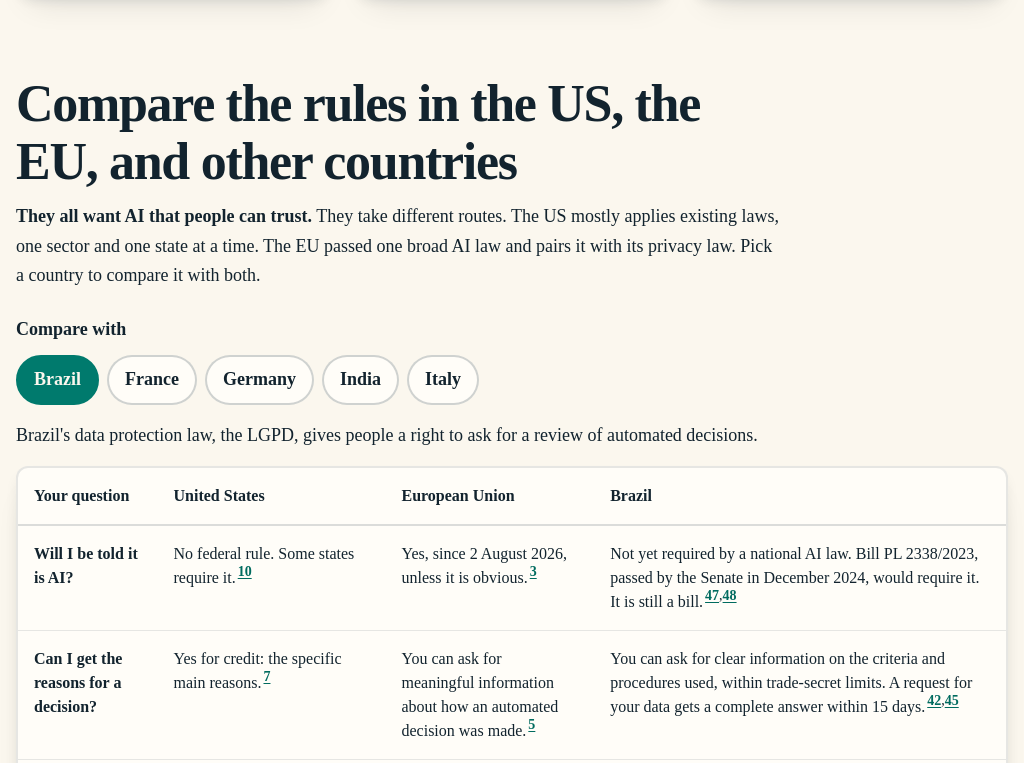
Guide page › cites every Germany cell, and dates the credit-score rights that start later
The width and height of the screenshot is (1024, 763).
(page scrolled)
Click the radio button labelled "Germany".
click(260, 380)  # box [205,355,314,405]
(page scrolled)
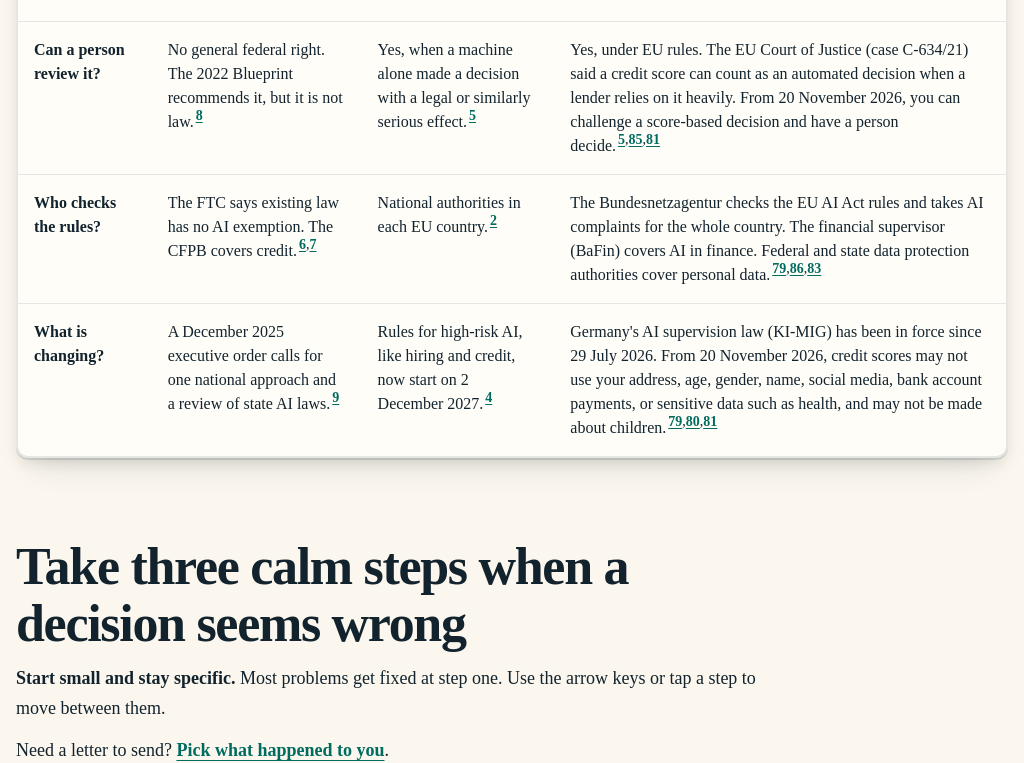
Expected: the text "in force since 29 July 2026" is shown, [570,323,982,436]
